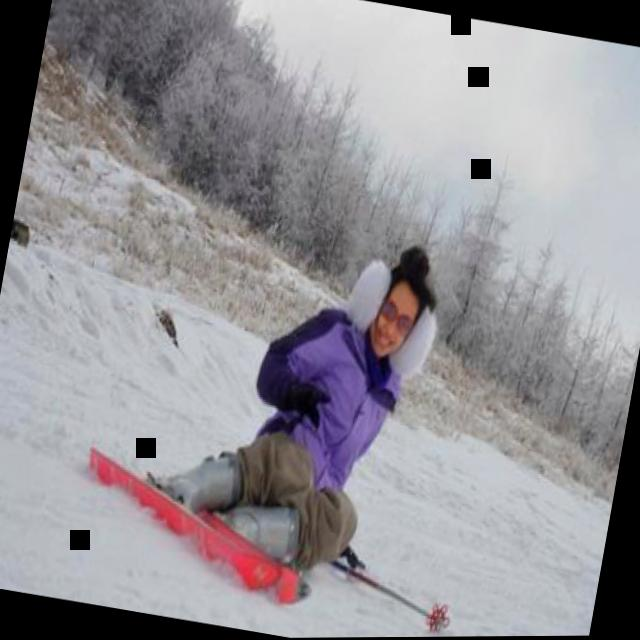Fall-Detected: (135, 186, 460, 608)
